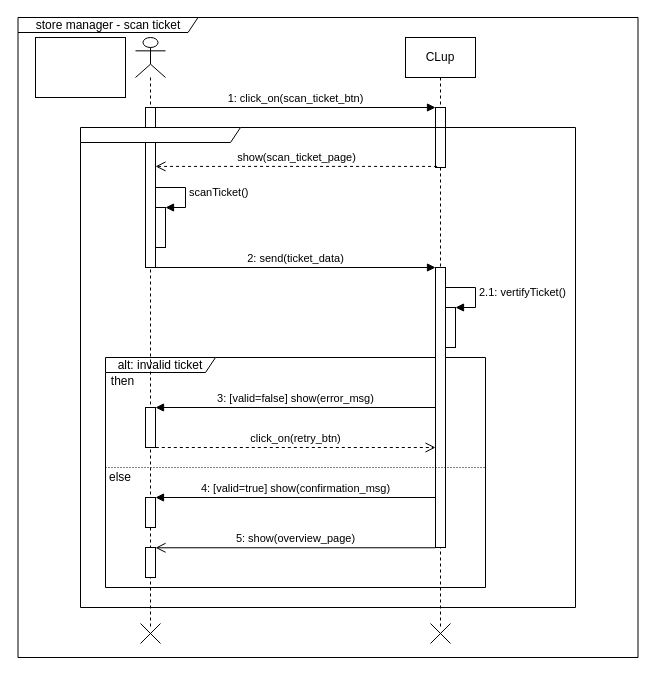
Image size: 655x675. Some labels were removed from this diagram. The centre of each missing label's shape, as x and y in pixels:
"loop: while [valid==false]" goes at point (328, 367).
"store manager already logged in" goes at point (80, 67).
